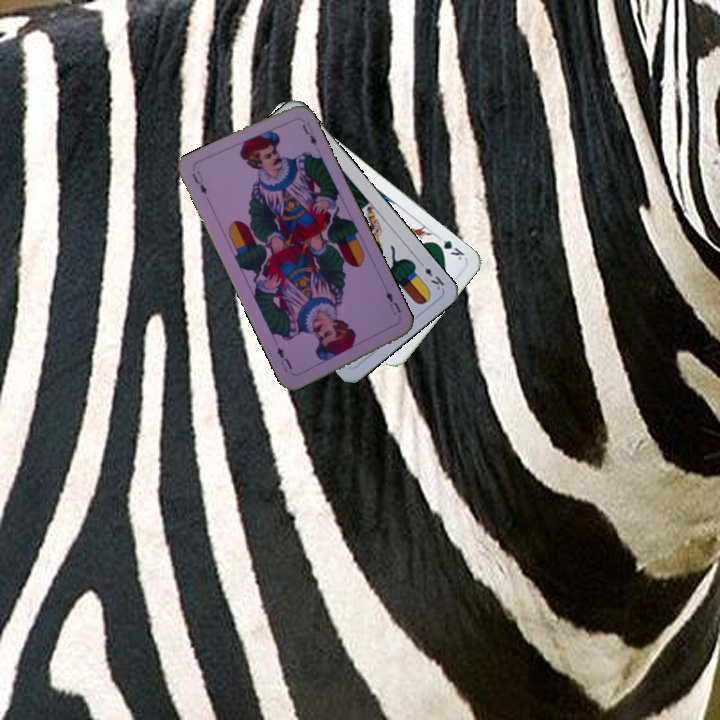EK: (415, 257, 447, 293)
EU: (188, 167, 210, 197), (382, 287, 403, 318)
GK: (430, 236, 467, 263)
